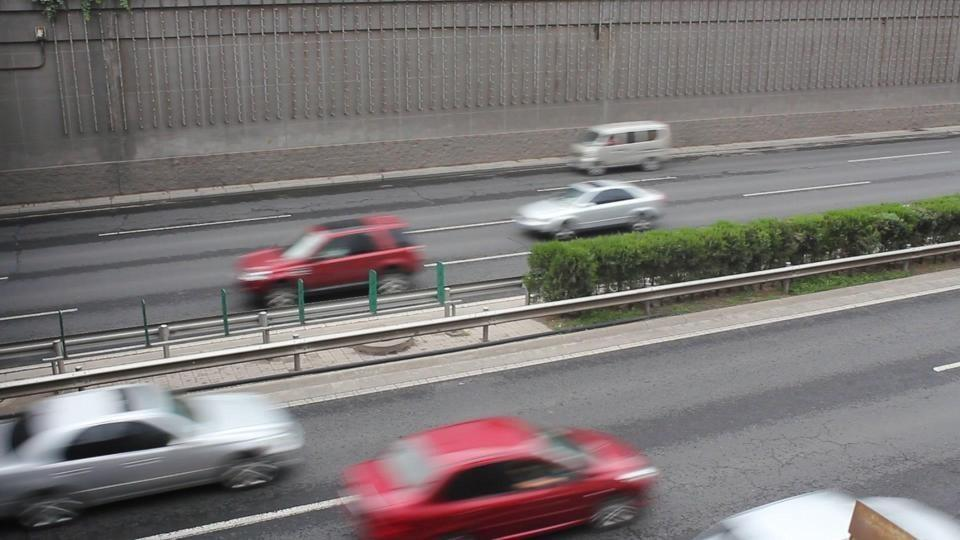car: (1, 384, 308, 530), (335, 415, 663, 539), (234, 215, 427, 307), (691, 488, 960, 538), (510, 178, 668, 240), (567, 119, 673, 175)
